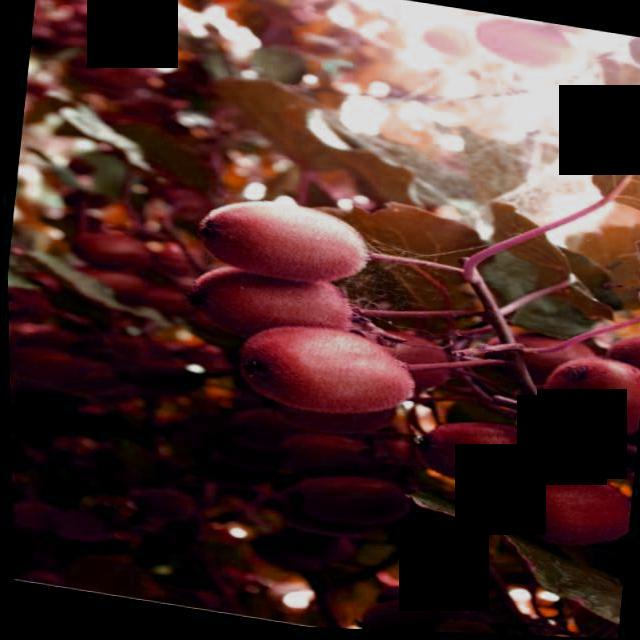kiwi: (232, 319, 420, 431), (191, 192, 378, 295), (180, 261, 365, 359), (485, 458, 634, 560), (414, 414, 573, 501), (535, 349, 640, 446)
